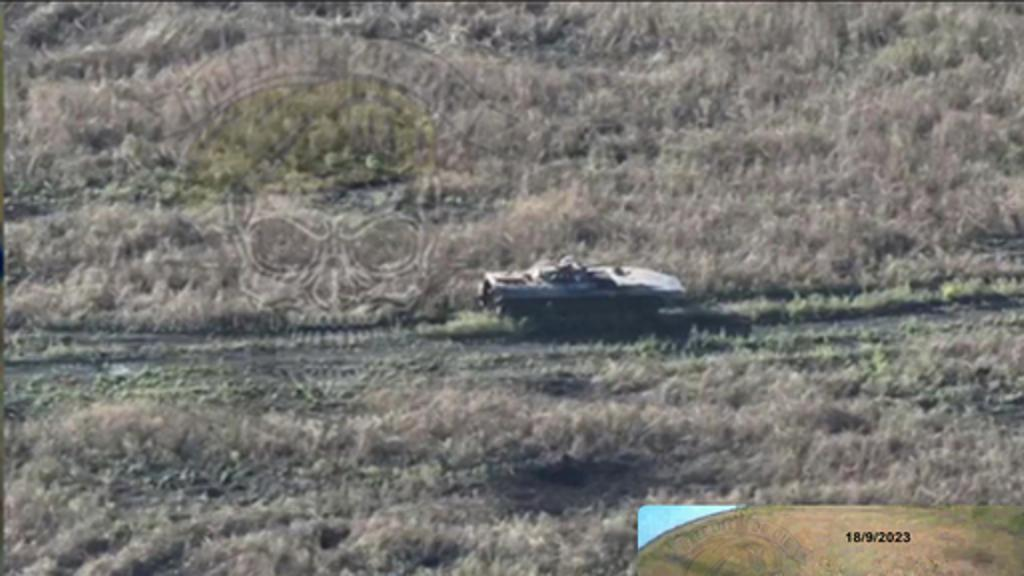APC-IFV: (468, 254, 692, 340)
